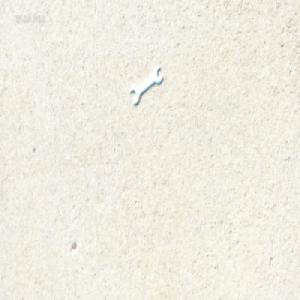Wrench: (130, 67, 163, 106)
